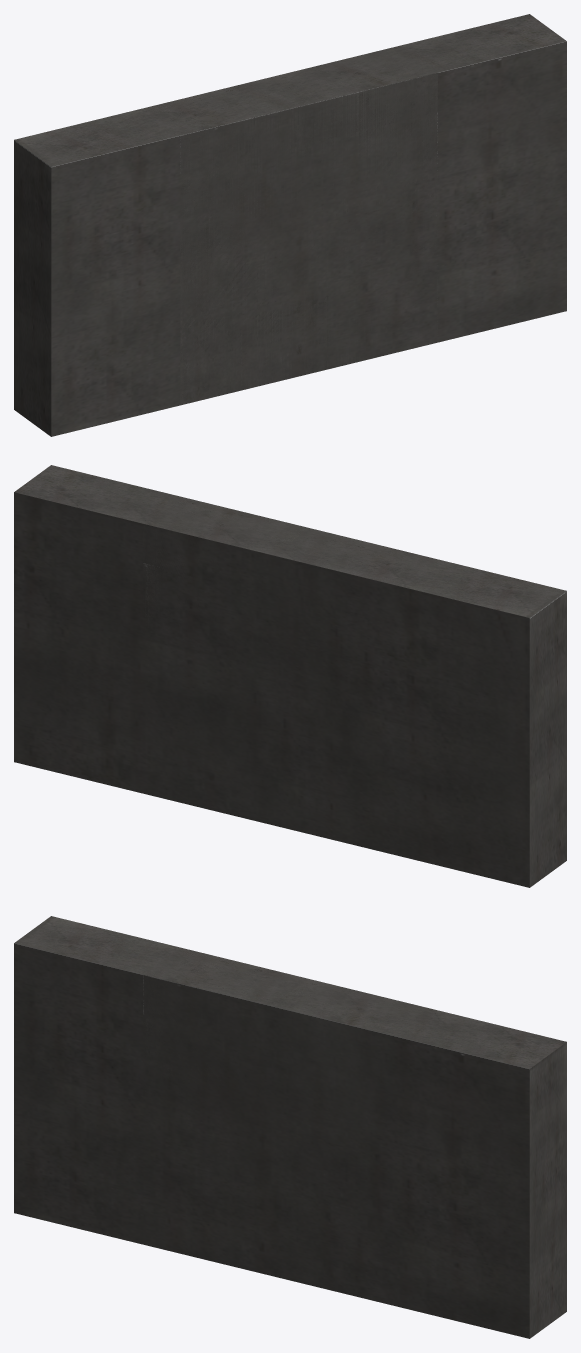
The model's file is paredes.glb.
3 renders of one model, top to bottom at view 1: azimuth 30°, elevation 25°; view 2: azimuth 150°, elevation 25°; view 3: azimuth 330°, elevation 25°, orthographic.
Parts seen in each view (by area): view 1: parede longa tipo 1, parede tipo 1, Cube.019, Cube.021; view 2: parede longa tipo 1, parede tipo 1; view 3: parede longa tipo 1, parede tipo 1.
Boxes of the visible parts, box(x1,y1,x2,y2) form: parede longa tipo 1: box(14, 14, 566, 436); parede tipo 1: box(143, 45, 437, 404); Cube.019: box(180, 112, 437, 404); Cube.021: box(180, 73, 437, 173); parede longa tipo 1: box(14, 465, 566, 887); parede tipo 1: box(143, 497, 437, 727); parede longa tipo 1: box(14, 916, 566, 1338); parede tipo 1: box(143, 948, 437, 1178).
Bounding box in the file's own units: 4 × 2 × 0.5.
Materials: 9 (9 with a texture image).
